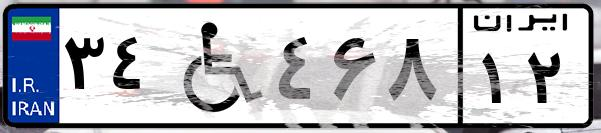1: (475, 38, 525, 113)
2: (525, 38, 570, 115)
3: (57, 26, 110, 100)
4: (270, 28, 330, 110), (110, 28, 158, 98)
6: (330, 28, 385, 110)
8: (385, 28, 445, 110)
ژ (معلولین و جانبازان): (158, 12, 270, 120)
